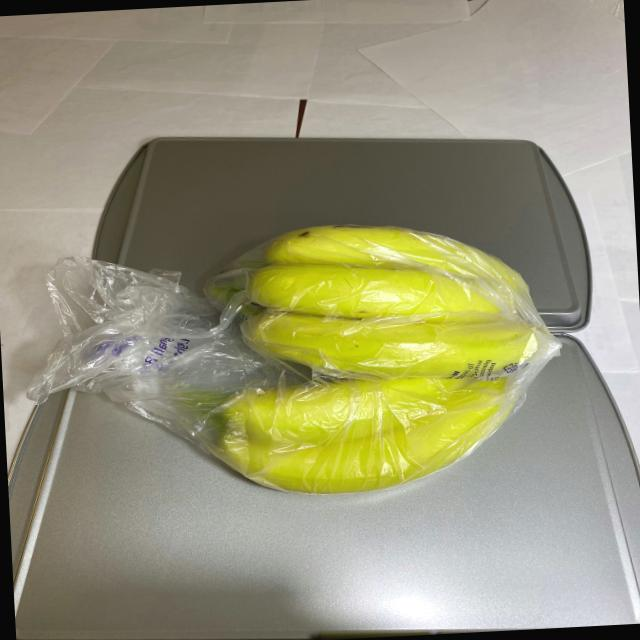banana: (180, 208, 560, 504)
